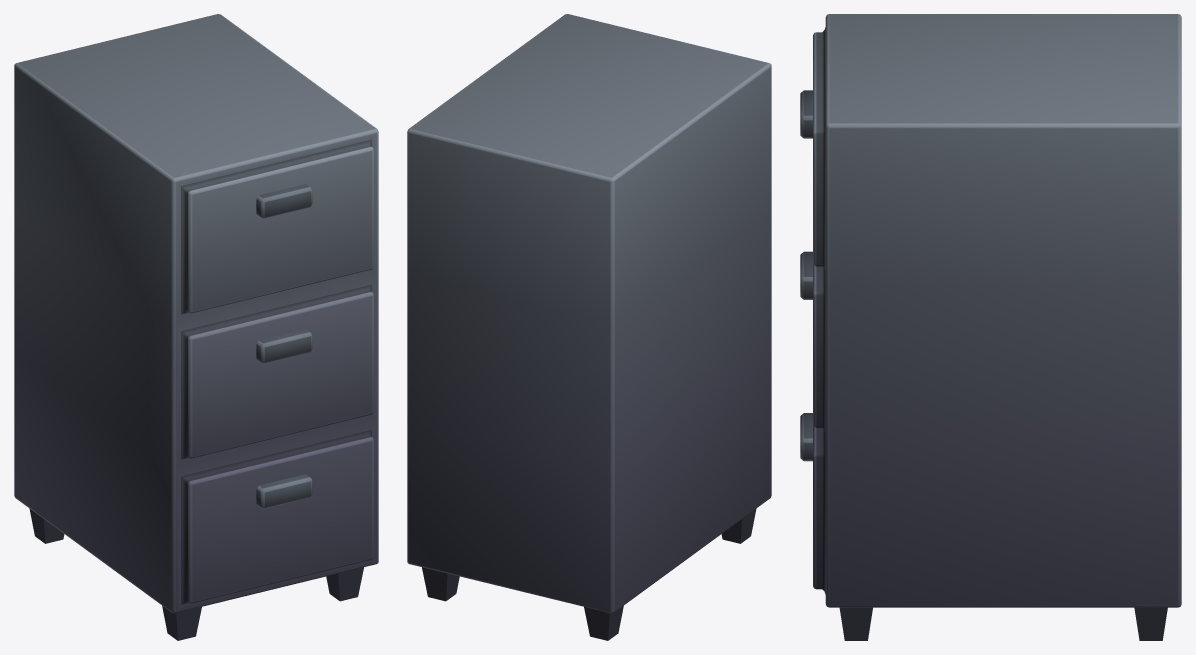
3 views of the same model, side by side, from view 1: azimuth 30°, elevation 25°; view 2: azimuth 150°, elevation 25°; view 3: azimuth 270°, elevation 25° (orthographic). The views are drawn at different scales.
Visible parts, largest first — view 1: box; view 2: box; view 3: box.
Part boxes in pixels (left/top/right/bottom): box: left=14, top=14, right=378, bottom=640; box: left=407, top=14, right=771, bottom=640; box: left=800, top=14, right=1181, bottom=640.
Bounding box in the file's own units: 149 × 324 × 214.
